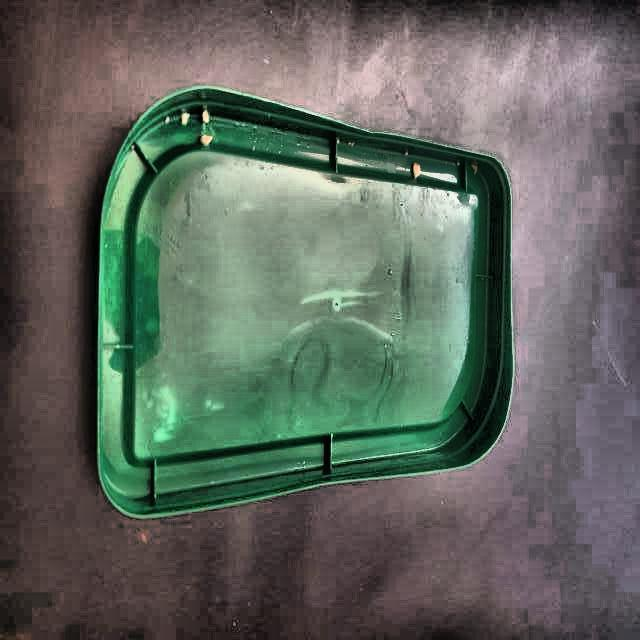plastic: (98, 88, 512, 516)
